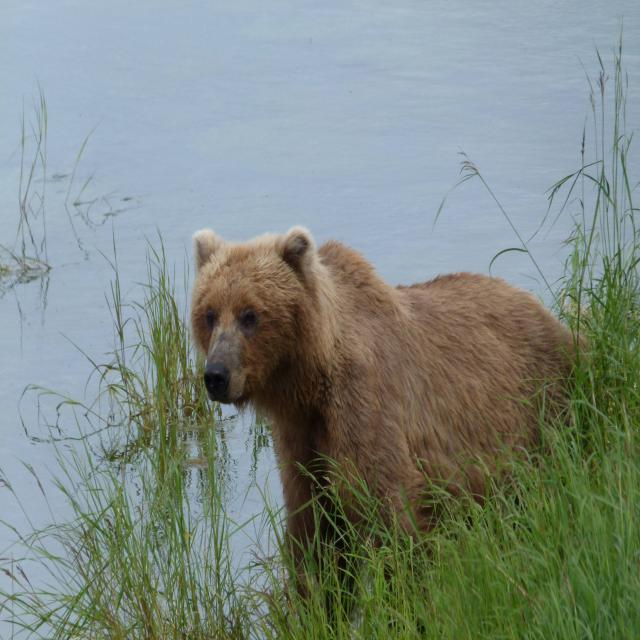bear face: (193, 227, 582, 520)
